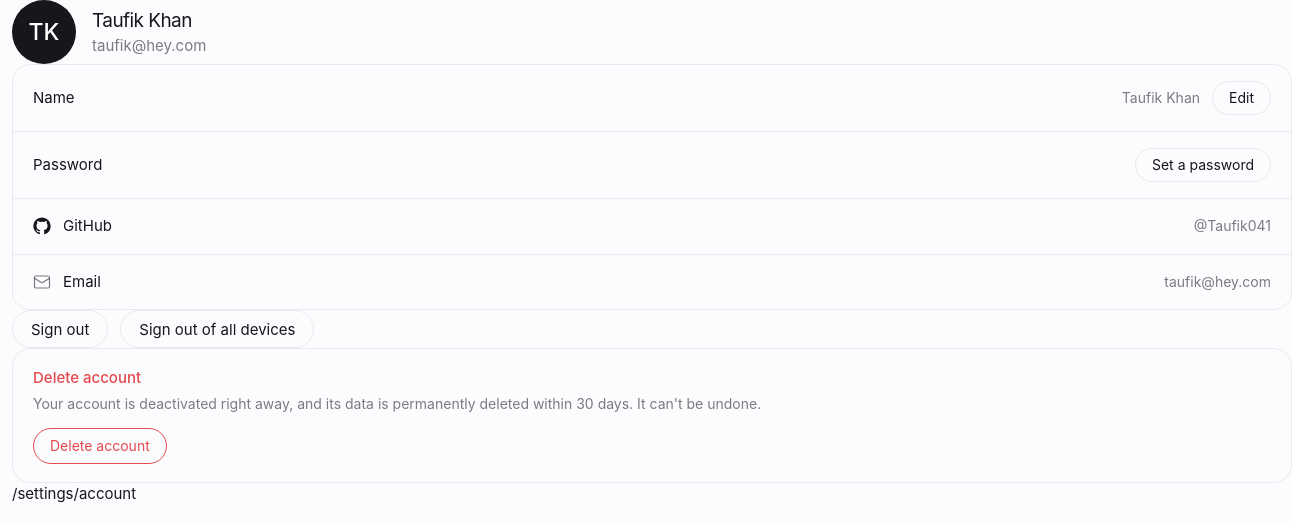
Test: Settings → Account: the password of an account made with GitHub › "Set a password" emails a link to the account's address and says so
Click the button "Set a password". click: (1203,165)
box: [1135, 148, 1271, 182]
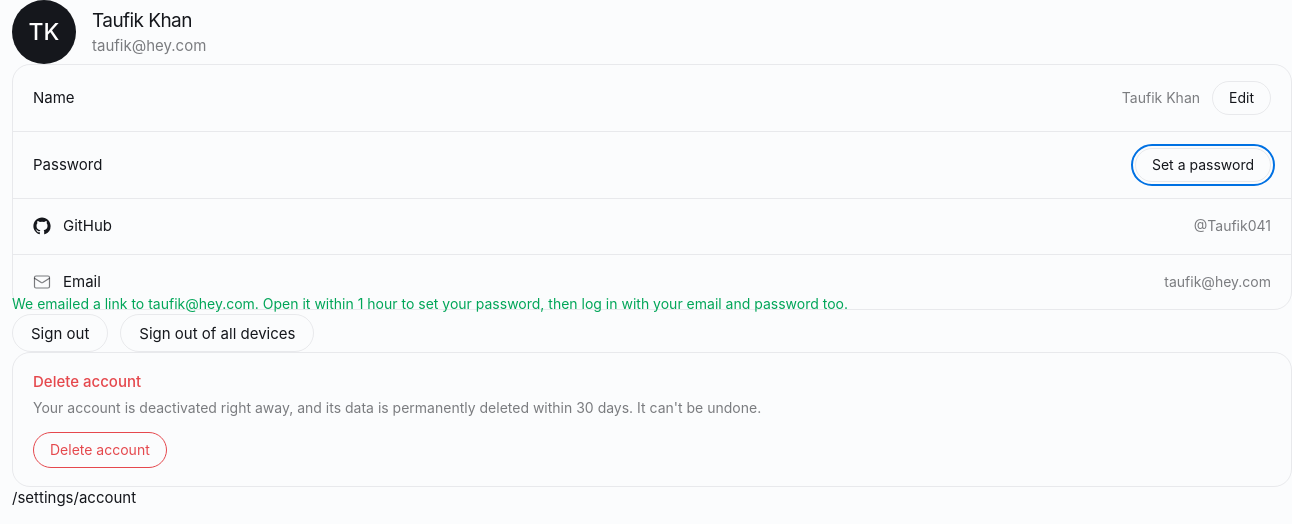
Expected: the message shows "We emailed a link to taufik@hey.com. Open it within 1 hour to set your password, then log in with your email and password too.", [12, 295, 848, 312]
